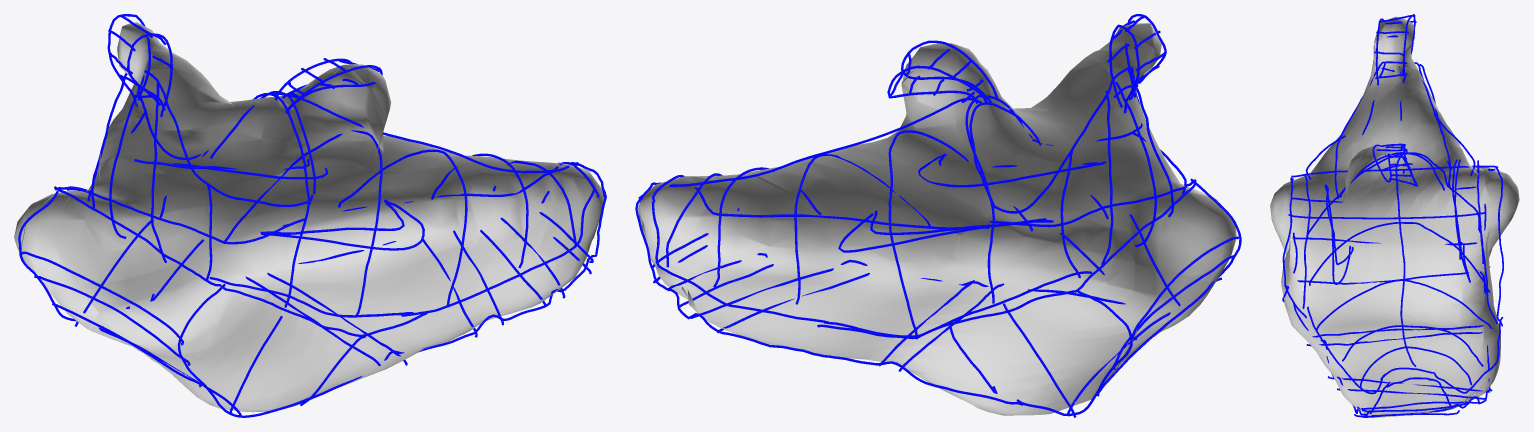
Rendered from scaffold_sketch_P2_open_sketch_proxy.glb.
3 renders of one model, left to right at view 1: azimuth 30°, elevation 25°; view 2: azimuth 150°, elevation 25°; view 3: azimuth 270°, elevation 25°, orthographic. The views are drawn at different scales.
Visible parts, largest first — view 1: scaffold_sketch_P2_open_surface, scaffold_sketch_P2_open; view 2: scaffold_sketch_P2_open_surface, scaffold_sketch_P2_open; view 3: scaffold_sketch_P2_open_surface, scaffold_sketch_P2_open.
Part boxes in pixels (x1,y1,x2,y2): scaffold_sketch_P2_open_surface: [14, 22, 604, 412]; scaffold_sketch_P2_open: [18, 14, 606, 417]; scaffold_sketch_P2_open_surface: [638, 23, 1236, 415]; scaffold_sketch_P2_open: [635, 14, 1241, 417]; scaffold_sketch_P2_open_surface: [1270, 16, 1519, 417]; scaffold_sketch_P2_open: [1282, 14, 1503, 417].
Size of the model in its own units: 1.01 by 0.6825 by 0.5623.
